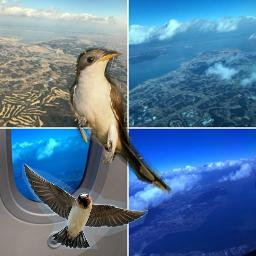Cuckoo: (69, 48, 173, 198)
Swallow: (22, 162, 148, 249)
